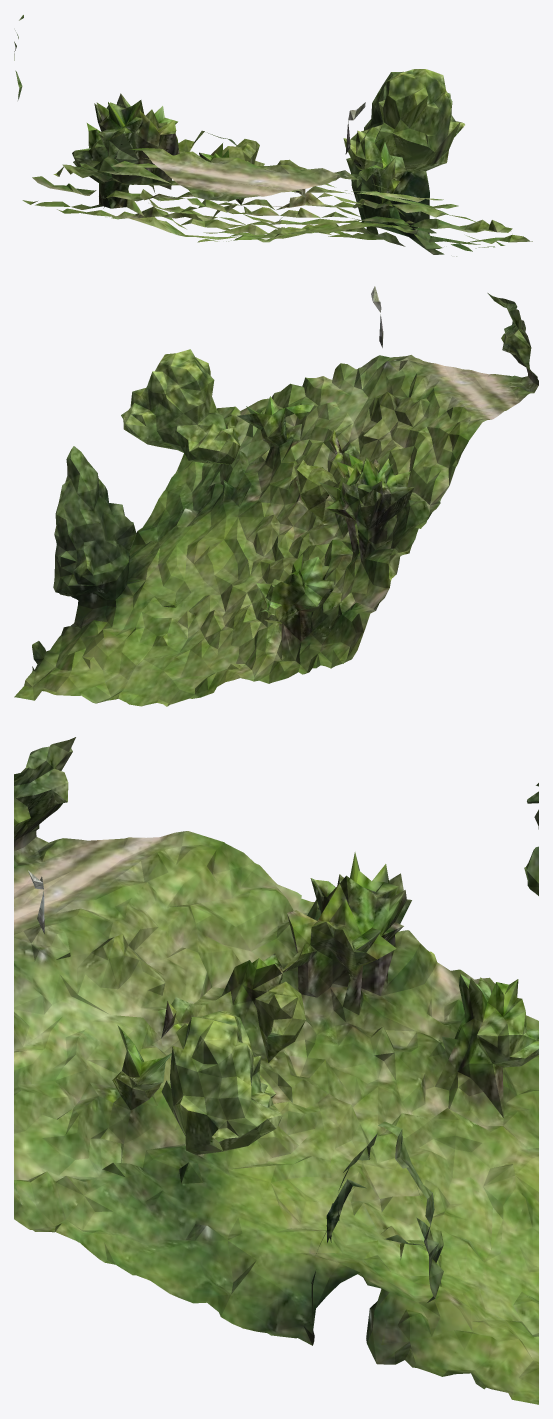
3 renders of one model, top to bottom at view 1: azimuth 30°, elevation 25°; view 2: azimuth 150°, elevation 25°; view 3: azimuth 270°, elevation 25°, orthographic. The views are drawn at different scales.
Size of the model in its own units: 26.11 by 24.59 by 26.11.
5 materials, 5 textured.
